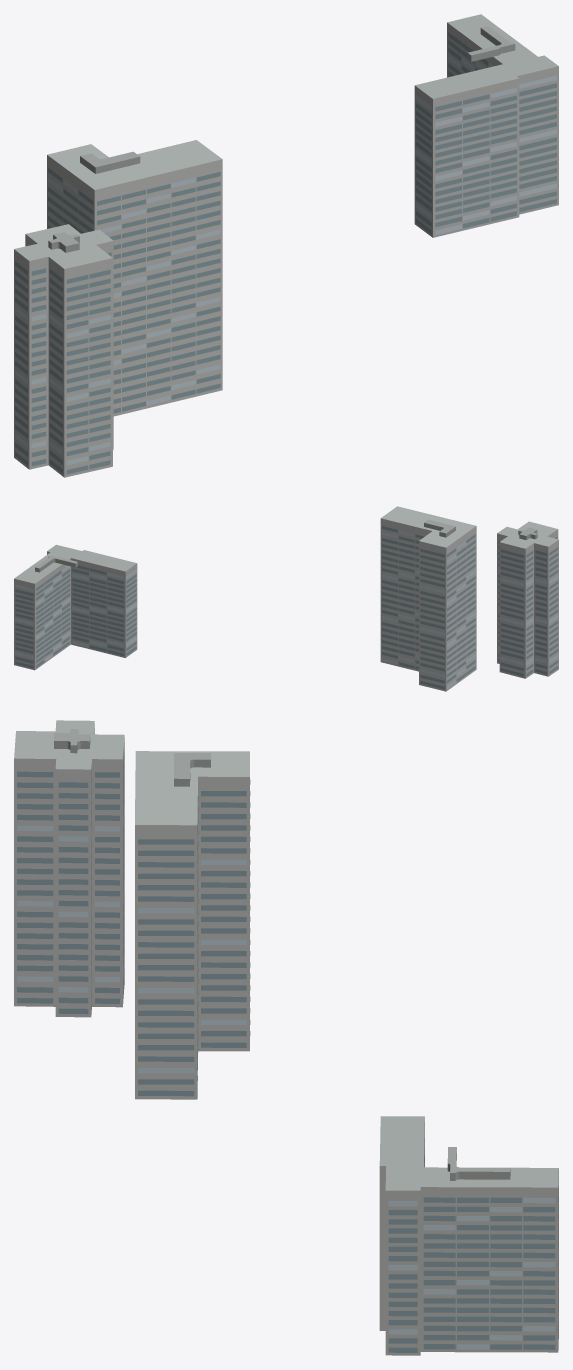
The model's file is apt-a15085805.glb.
3 views of the same model, one above another, from view 1: azimuth 30°, elevation 25°; view 2: azimuth 150°, elevation 25°; view 3: azimuth 270°, elevation 25° (orthographic). The views are drawn at different scales.
Parts seen in each view (by area): view 1: apt-a15085805; view 2: apt-a15085805; view 3: apt-a15085805.
Boxes of the visible parts, x1=… form: apt-a15085805: x1=14, y1=14, x2=558, y2=477; apt-a15085805: x1=14, y1=506, x2=558, y2=691; apt-a15085805: x1=14, y1=720, x2=558, y2=1355.
Bounding box in the file's own units: 250 × 85 × 149.
